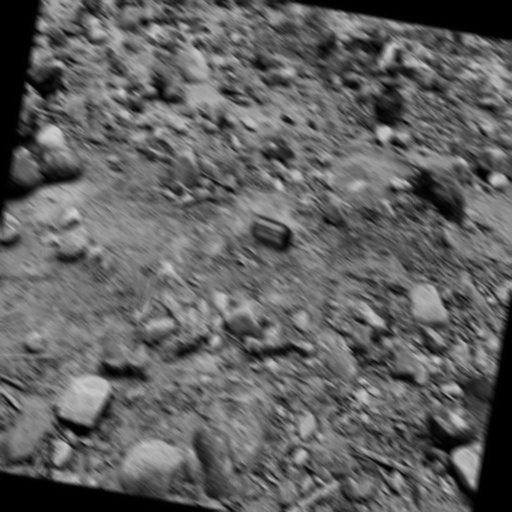bottle: (248, 214, 295, 252)
